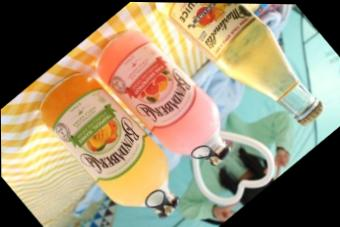glass: (80, 5, 255, 191), (140, 2, 337, 154), (26, 57, 201, 227)
